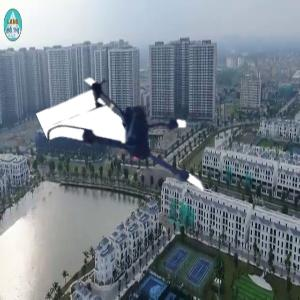drone: (57, 64, 216, 223)
